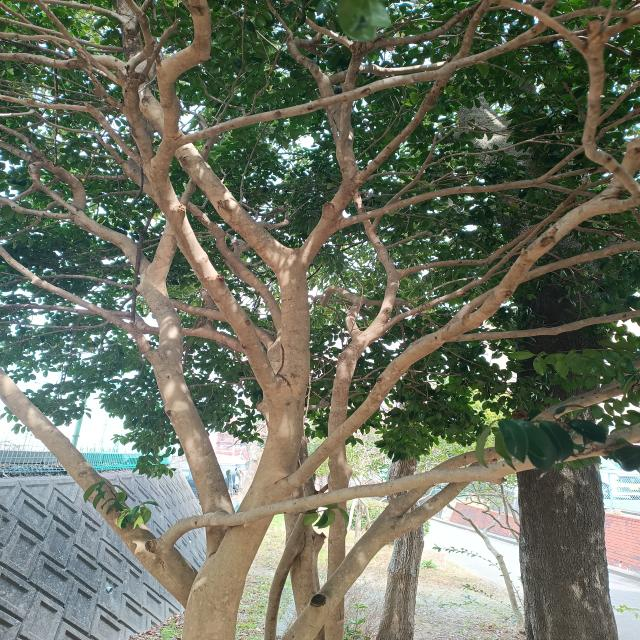Branch: (136, 88, 312, 640), (289, 196, 614, 493), (1, 369, 200, 603), (141, 160, 275, 411), (140, 263, 237, 552), (285, 33, 360, 269), (30, 156, 149, 274), (310, 504, 401, 640), (122, 68, 155, 164), (153, 222, 177, 287)
Twig: (180, 5, 637, 146), (160, 422, 640, 545), (391, 366, 640, 510), (359, 0, 491, 176), (337, 1, 482, 156), (441, 240, 640, 328), (340, 167, 609, 229), (0, 95, 141, 166), (152, 0, 211, 165), (543, 106, 640, 177), (449, 309, 639, 342), (27, 162, 76, 210), (0, 124, 48, 158), (1, 198, 70, 219), (539, 184, 595, 197), (0, 140, 32, 161)
